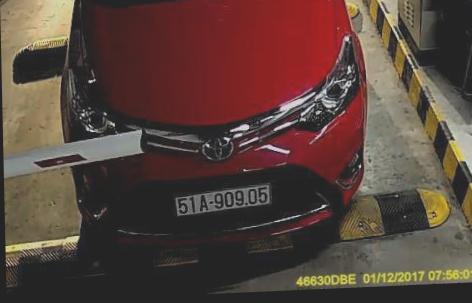License_Plate: (174, 185, 275, 215)
